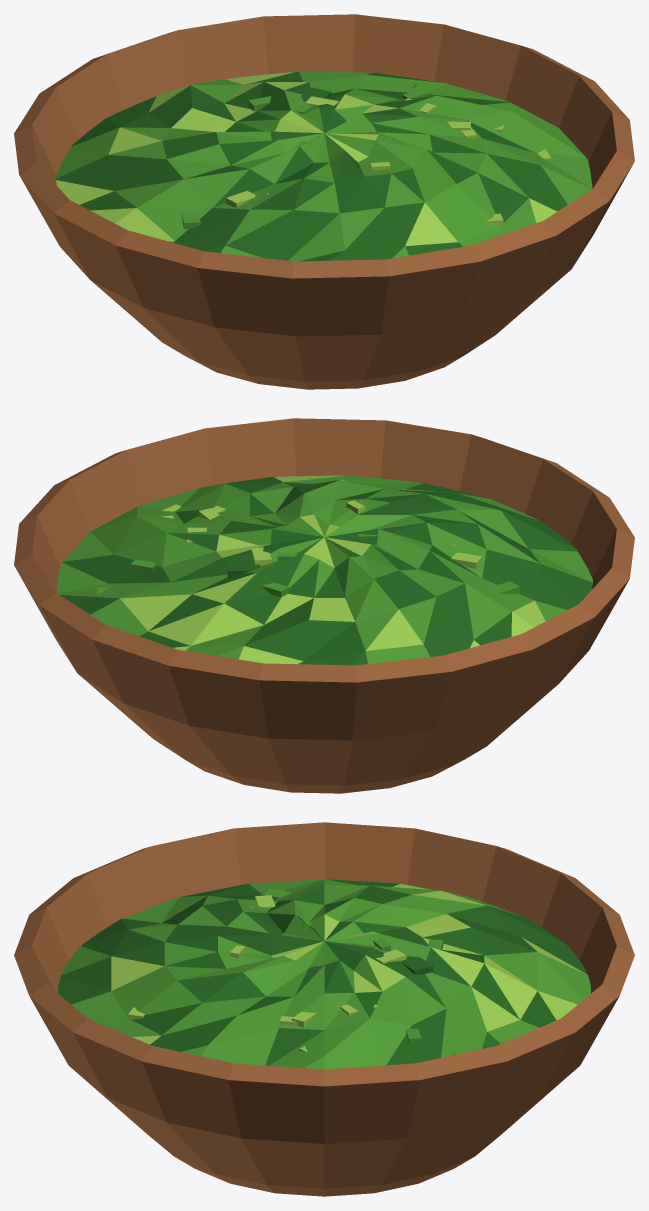
Rendered from GreensBowl.obj.
The picture shows the model from 3 angles, top to bottom: view 1: azimuth 30°, elevation 25°; view 2: azimuth 150°, elevation 25°; view 3: azimuth 270°, elevation 25°; orthographic projection.
Parts seen in each view (by area): view 1: Bowl, Greens; view 2: Bowl, Greens; view 3: Bowl, Greens.
Boxes of the visible parts, <box> form: Bowl: <box>14,14,634,389</box>; Greens: <box>56,72,592,261</box>; Bowl: <box>14,418,634,793</box>; Greens: <box>56,475,592,665</box>; Bowl: <box>14,822,634,1196</box>; Greens: <box>58,879,590,1069</box>.
Bounding box in the file's own units: 0.24 × 0.0831 × 0.24.
